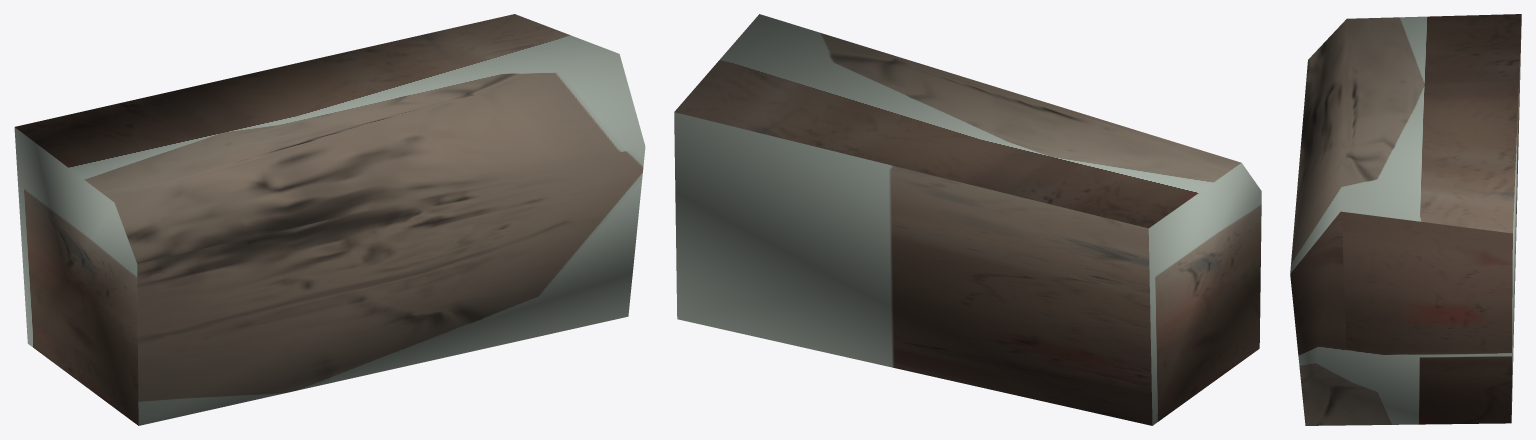
The model's file is md_alley_brick_01_v3.fbx.
3 views of the same model, side by side, from view 1: azimuth 30°, elevation 25°; view 2: azimuth 150°, elevation 25°; view 3: azimuth 270°, elevation 25° (orthographic). The views are drawn at different scales.
Parts seen in each view (by area): view 1: pCube1; view 2: pCube1; view 3: pCube1.
Boxes of the visible parts, <box> form: pCube1: <box>14,14,645,425</box>; pCube1: <box>674,14,1261,425</box>; pCube1: <box>1290,14,1521,425</box>.
Bounding box in the file's own units: 30 × 13.98 × 13.39.
